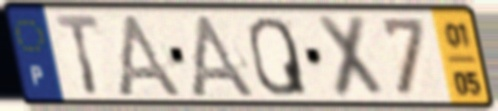7: (379, 15, 431, 99)
A: (185, 10, 260, 101), (112, 10, 187, 101)
Q: (245, 14, 311, 98)
T: (52, 12, 104, 97)
X: (313, 12, 388, 101)
